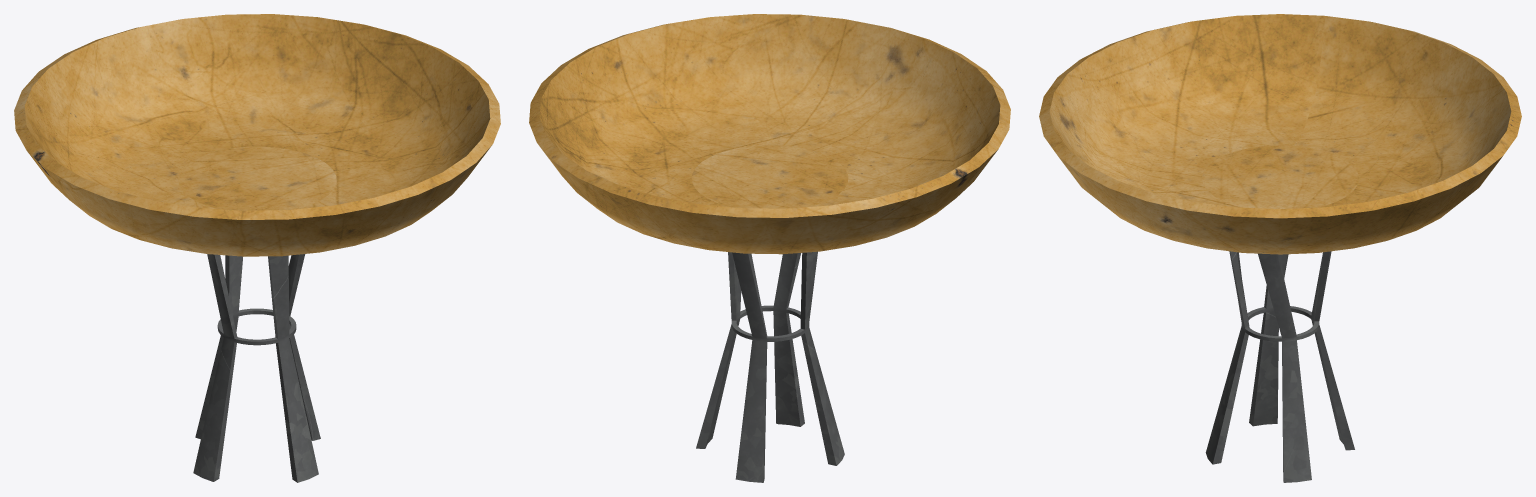
Rendered from GreekFirepit.fbx.
3 renders of one model, left to right at view 1: azimuth 30°, elevation 25°; view 2: azimuth 150°, elevation 25°; view 3: azimuth 270°, elevation 25°, orthographic.
Parts seen in each view (by area): view 1: PratoBronze, PePira; view 2: PratoBronze, PePira; view 3: PratoBronze, PePira.
Boxes of the visible parts, left/top/right/bottom form: PratoBronze: left=14, top=14, right=500, bottom=256; PePira: left=193, top=254, right=320, bottom=482; PratoBronze: left=529, top=14, right=1010, bottom=254; PePira: left=696, top=251, right=844, bottom=482; PratoBronze: left=1039, top=14, right=1521, bottom=254; PePira: left=1205, top=251, right=1354, bottom=482.
Size of the model in its own units: 0.8023 by 0.6234 by 0.8023.
